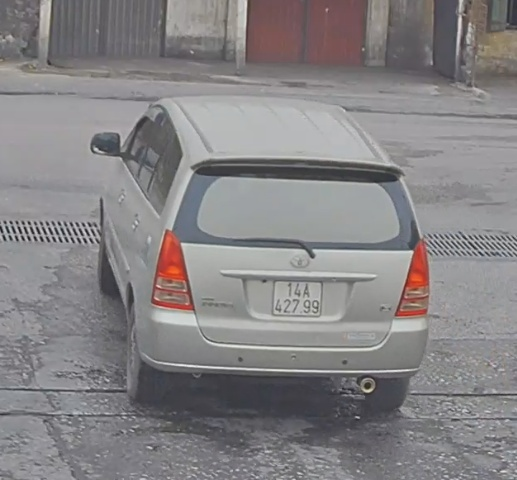vehicle plate: (269, 274, 324, 319)
